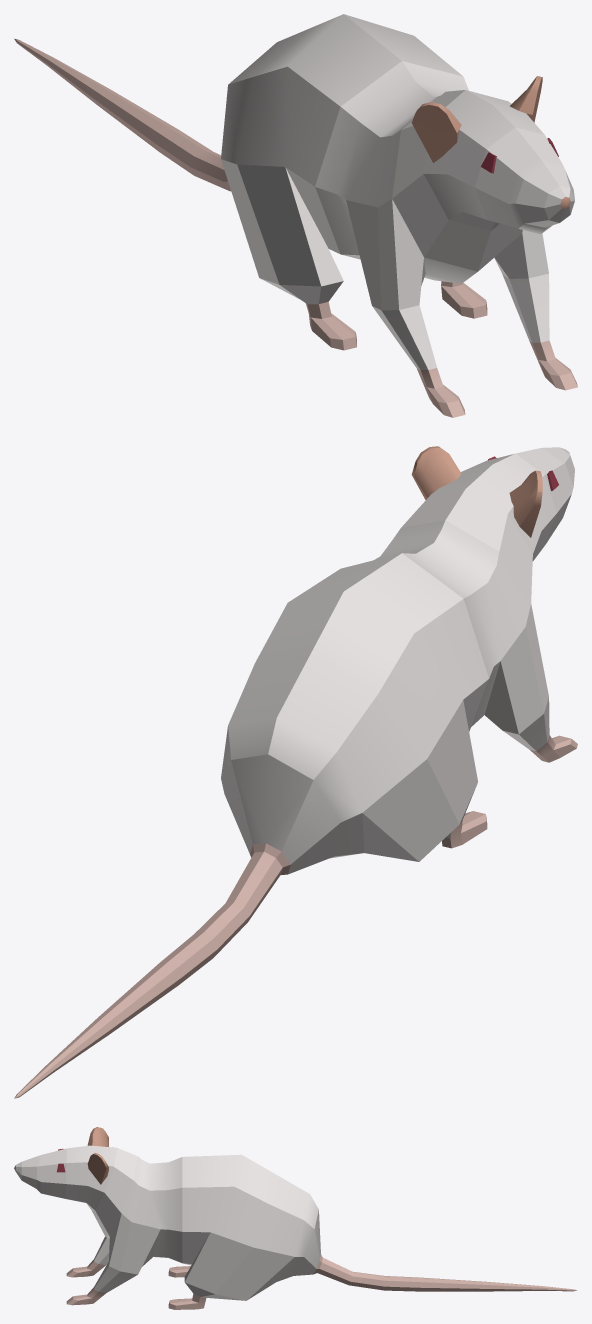
Rendered from rat.glb.
The picture shows the model from 3 angles, top to bottom: view 1: azimuth 30°, elevation 25°; view 2: azimuth 150°, elevation 25°; view 3: azimuth 270°, elevation 25°; orthographic projection. The views are drawn at different scales.
Parts seen in each view (by area): view 1: Geo_Rat; view 2: Geo_Rat; view 3: Geo_Rat.
Part boxes in pixels (bbox=[...]): Geo_Rat: bbox=[14, 14, 577, 417]; Geo_Rat: bbox=[14, 446, 577, 1098]; Geo_Rat: bbox=[14, 1127, 577, 1309].
Size of the model in its own units: 24.32 by 36.15 by 123.
Materials: 1 (1 with a texture image).
